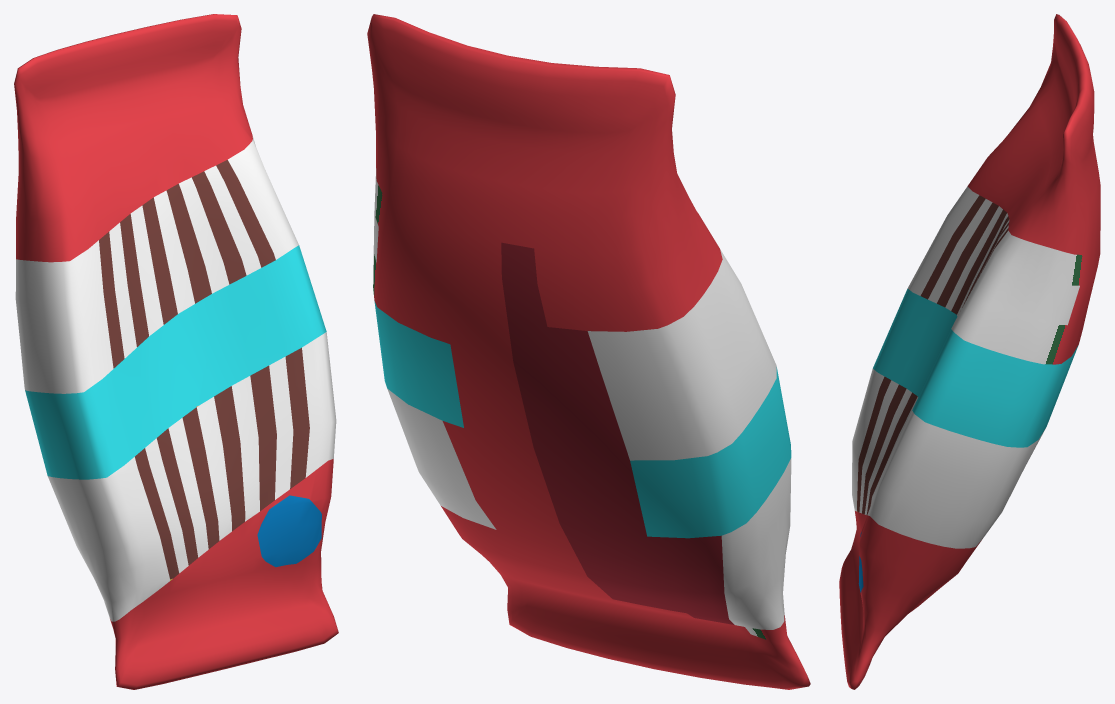
File: Sausage.fbx
3 renders of one model, left to right at view 1: azimuth 30°, elevation 25°; view 2: azimuth 150°, elevation 25°; view 3: azimuth 270°, elevation 25°, orthographic. The views are drawn at different scales.
Parts seen in each view (by area): view 1: Cube.010; view 2: Cube.010; view 3: Cube.010.
Part boxes in pixels (x1=…): Cube.010: x1=14, y1=14, x2=338, y2=689; Cube.010: x1=367, y1=14, x2=810, y2=689; Cube.010: x1=839, y1=14, x2=1100, y2=689.
Bounding box in the file's own units: 367 × 728 × 300.
